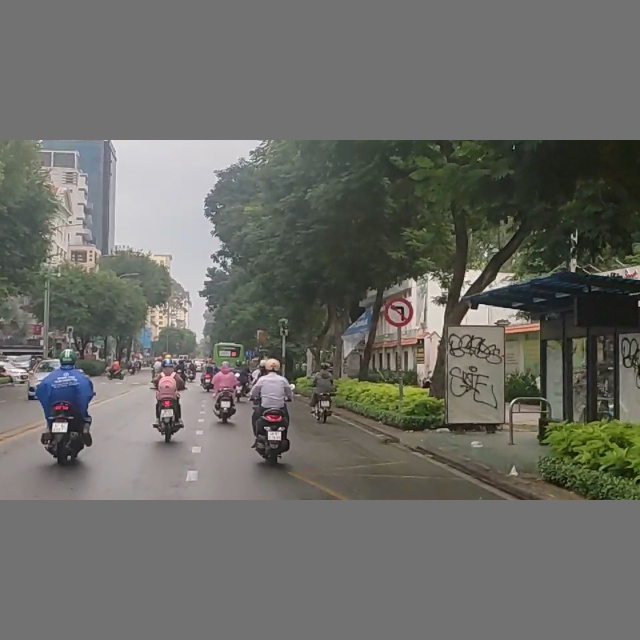P.123a: (386, 298, 414, 327)
